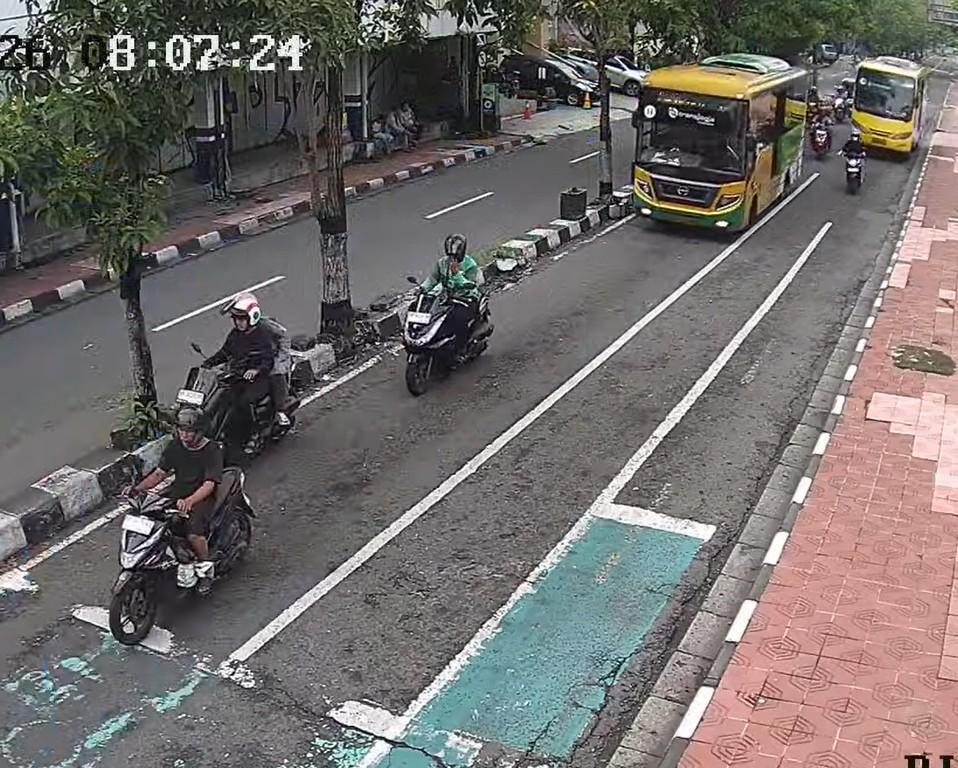Helmet: (228, 294, 261, 326), (175, 407, 203, 432), (443, 233, 466, 260), (850, 127, 860, 139)
Number Plate: (122, 515, 153, 535), (176, 389, 204, 405), (407, 312, 430, 324), (873, 137, 886, 144)
